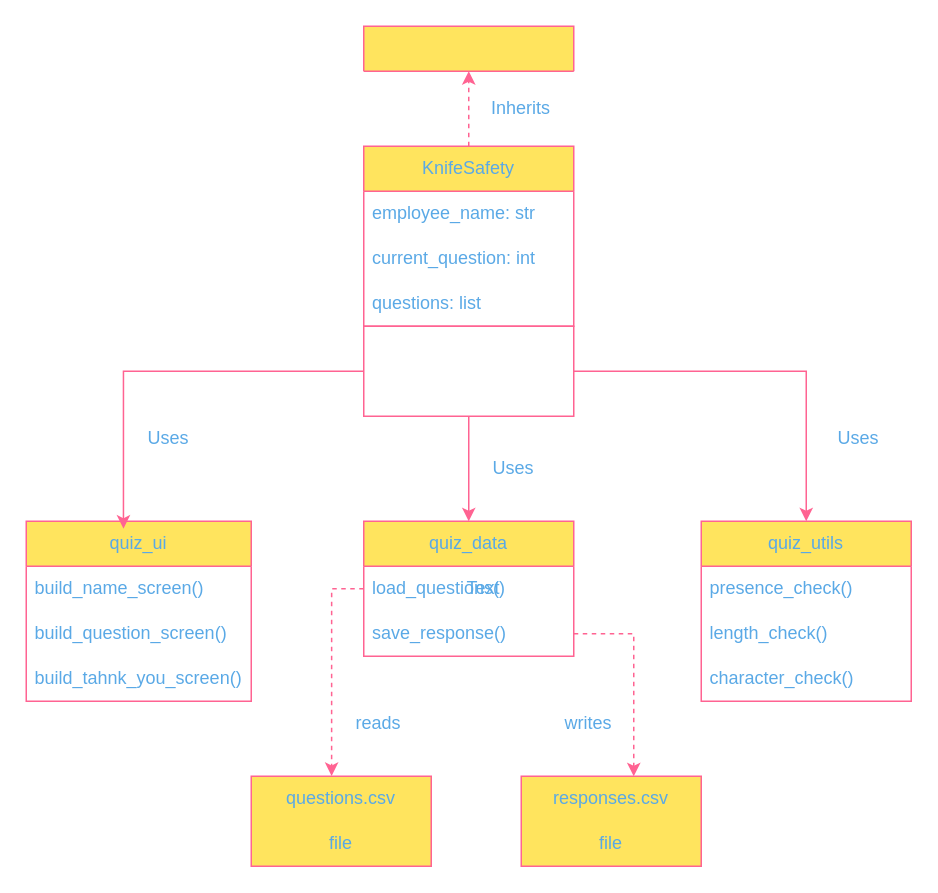
The diagram is 938 pixels wide and 893 high, and some of its shapes have lost their labels. Here are the shapes that lost their labels. From the top down, the centre of each, then its label:
At (x=468, y=48): "tk.Tk".
At (x=468, y=370): "btn_press() display_output() ...".
